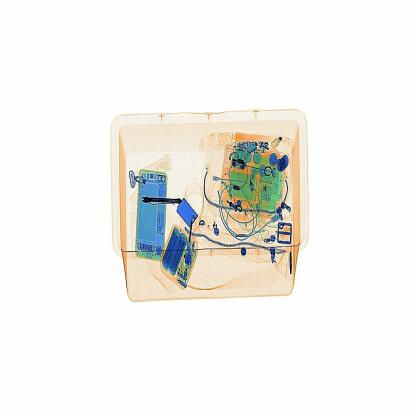knife: (135, 188, 192, 218)
